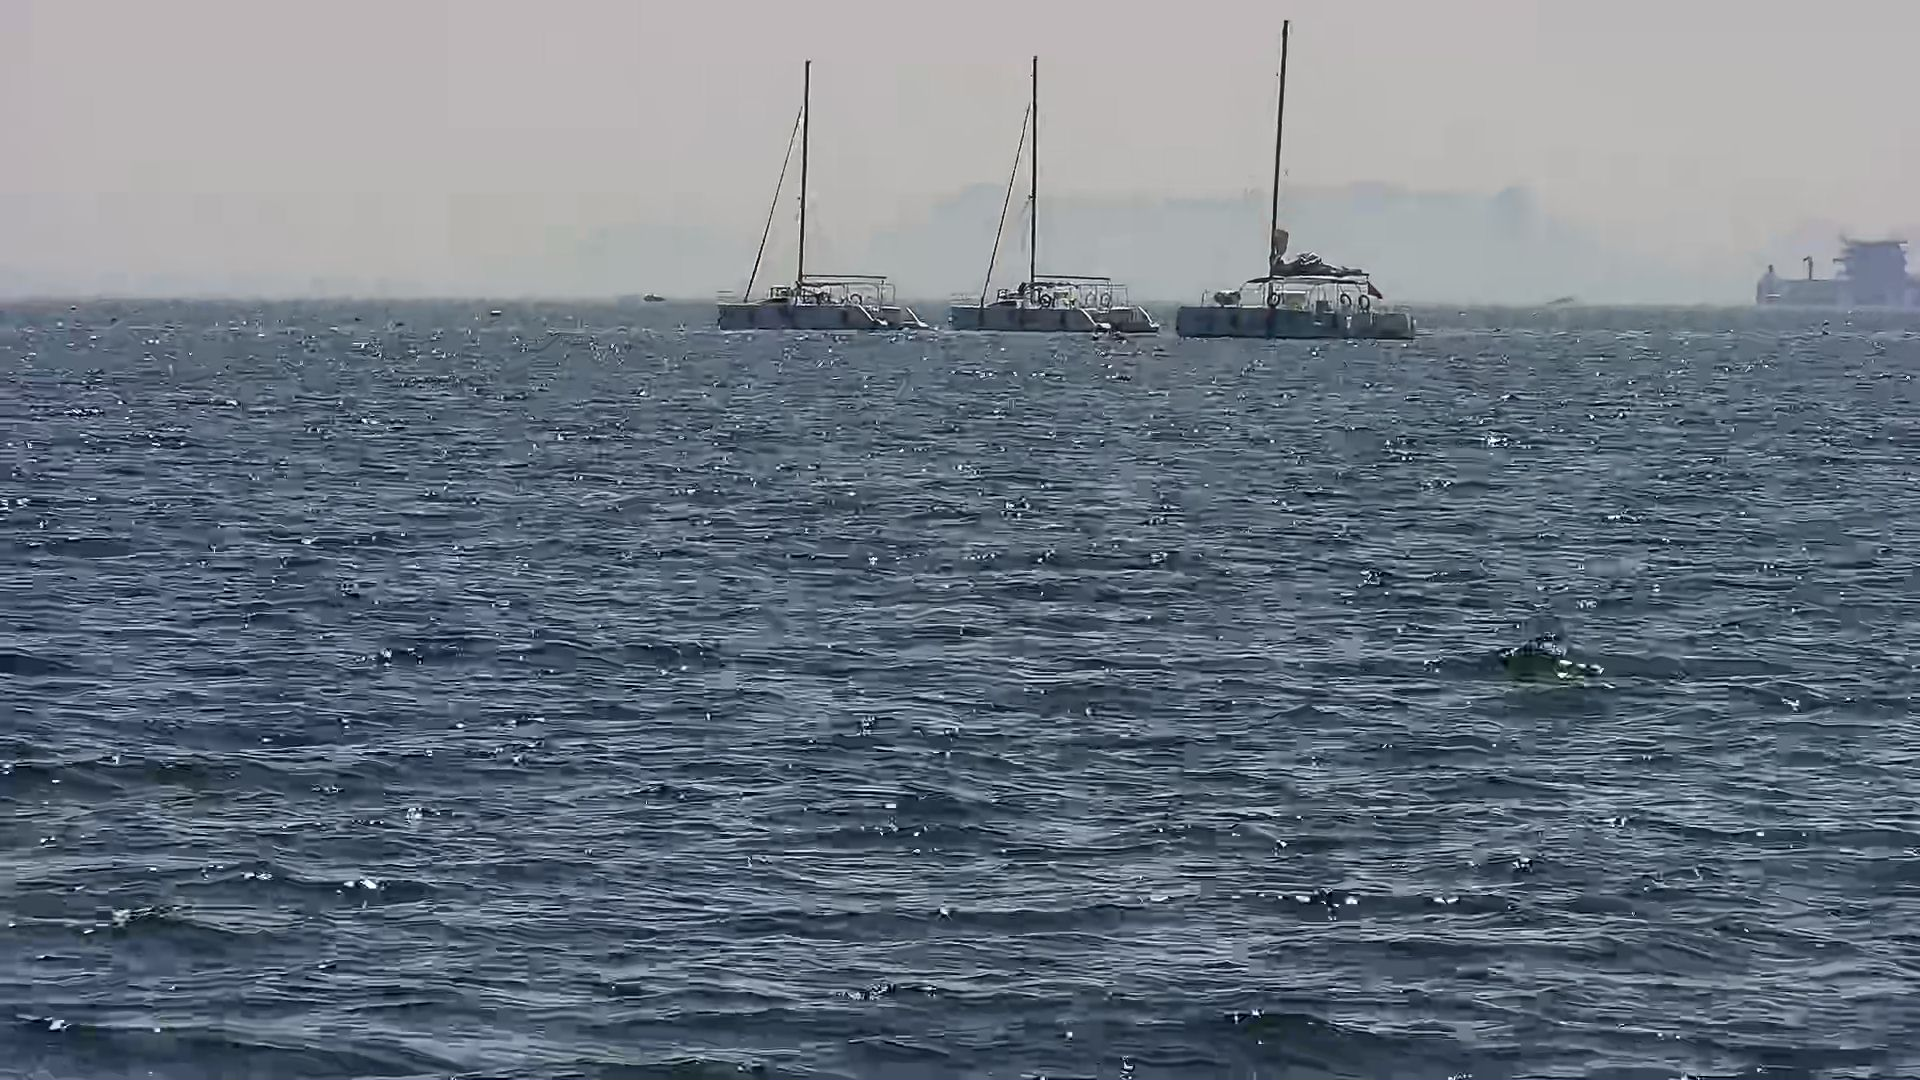boat: (1168, 11, 1432, 345), (712, 61, 938, 338), (944, 57, 1163, 338)
platform: (1749, 240, 1920, 311)
